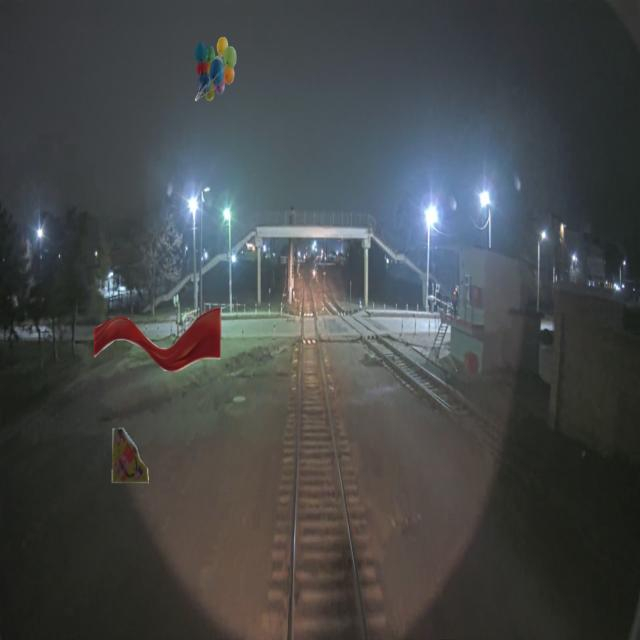balloon: (195, 36, 237, 100)
floating object: (94, 308, 220, 372), (110, 423, 148, 487)
